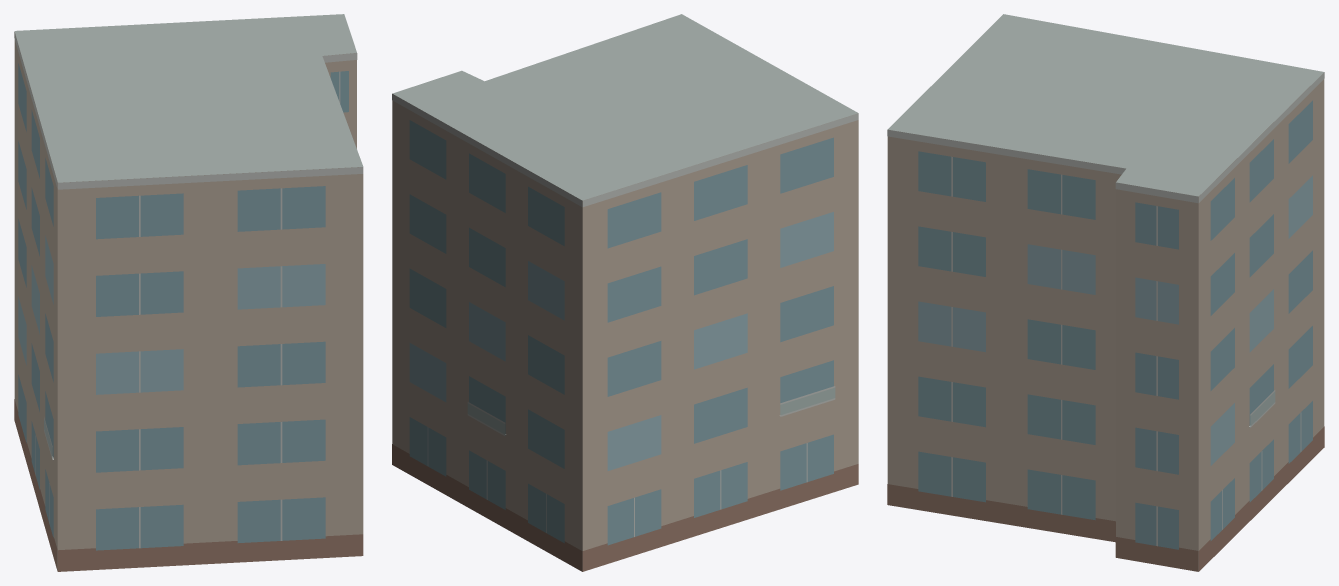
The model's file is survey-upis-32526674.glb.
3 views of the same model, side by side, from view 1: azimuth 30°, elevation 25°; view 2: azimuth 150°, elevation 25°; view 3: azimuth 270°, elevation 25° (orthographic). The views are drawn at different scales.
Parts seen in each view (by area): view 1: survey-upis-32526674.tmp; view 2: survey-upis-32526674.tmp; view 3: survey-upis-32526674.tmp.
Part boxes in pixels (<box>): survey-upis-32526674.tmp: <box>14,14,363,571</box>; survey-upis-32526674.tmp: <box>392,14,858,571</box>; survey-upis-32526674.tmp: <box>887,14,1324,571</box>.
Bounding box in the file's own units: 14.09 × 13.5 × 14.25.
